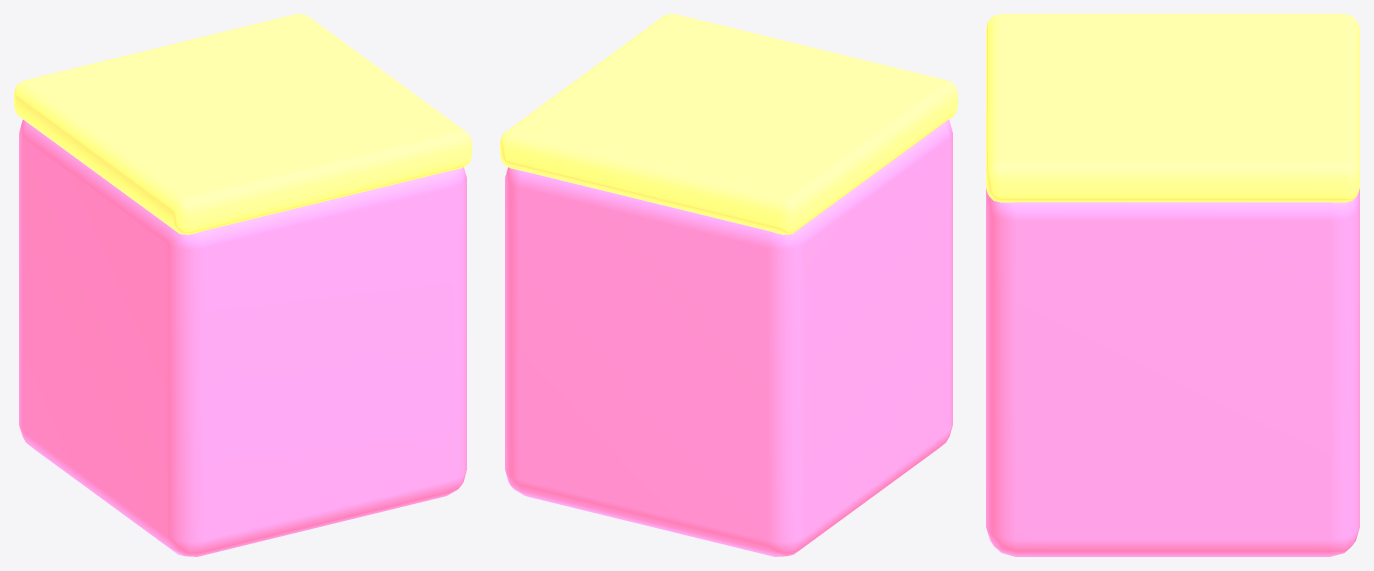
Rendered from gate.glb.
The picture shows the model from 3 angles, left to right: view 1: azimuth 30°, elevation 25°; view 2: azimuth 150°, elevation 25°; view 3: azimuth 270°, elevation 25°; orthographic projection. The views are drawn at different scales.
Parts seen in each view (by area): view 1: Shut gate, Gate crown; view 2: Shut gate, Gate crown; view 3: Shut gate, Gate crown.
Part boxes in pixels (box(x1,y1,x2,y2)): Shut gate: box(19, 119, 466, 556); Gate crown: box(14, 14, 471, 234); Shut gate: box(505, 119, 952, 556); Gate crown: box(500, 14, 957, 234); Shut gate: box(986, 188, 1359, 556); Gate crown: box(986, 14, 1359, 202).
Bounding box in the file's own units: 1 × 1.18 × 1.
